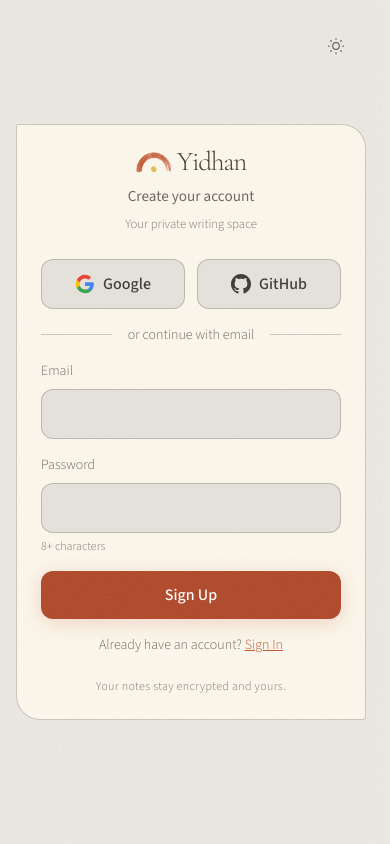
Scenario: Auth › mode switching › switches from signup to login
Click the button "Sign In" at (264, 645), box [245,635,283,655]
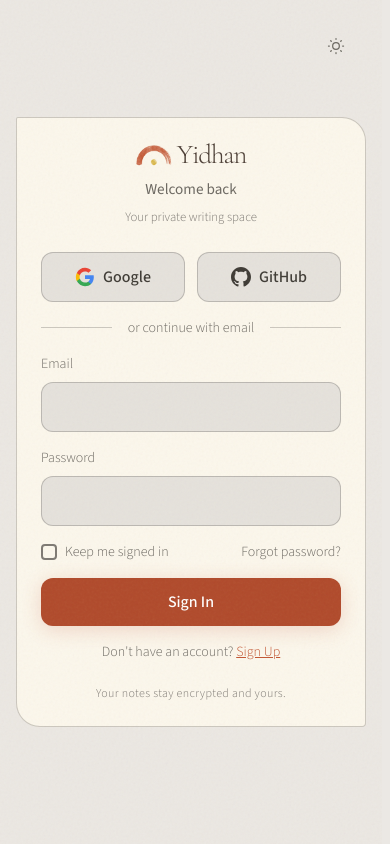
Check: the heading "Welcome back" is shown, box [145,178,237,200]
